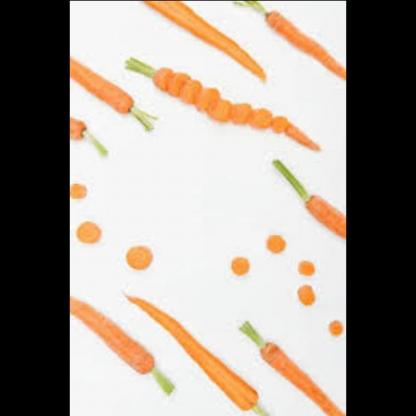carrot: (119, 290, 261, 416), (146, 58, 317, 146), (138, 1, 268, 88), (68, 296, 170, 388), (230, 1, 345, 81), (243, 331, 345, 416), (69, 54, 149, 118), (296, 192, 346, 240), (115, 241, 159, 274), (70, 214, 102, 250), (220, 250, 253, 278), (262, 230, 288, 260), (318, 312, 344, 338), (295, 282, 319, 309), (293, 258, 321, 278), (69, 176, 88, 204), (69, 123, 88, 142)
